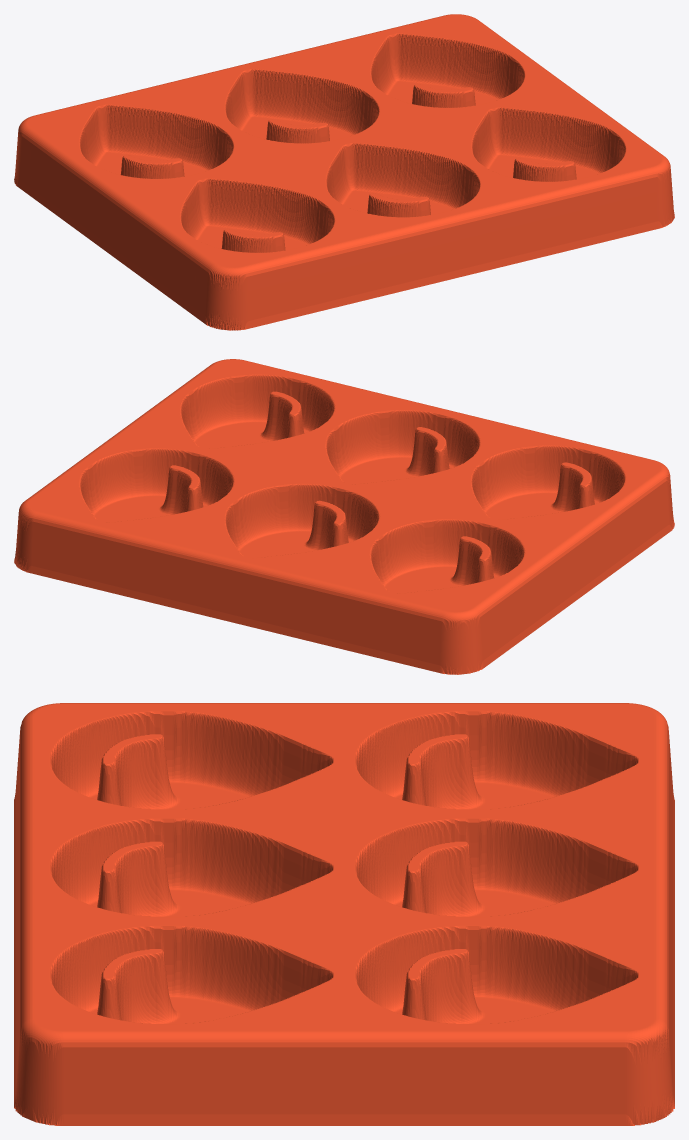
File: mold.glb
The picture shows the model from 3 angles, top to bottom: view 1: azimuth 30°, elevation 25°; view 2: azimuth 150°, elevation 25°; view 3: azimuth 270°, elevation 25°; orthographic projection. The views are drawn at different scales.
Parts seen in each view (by area): view 1: geometry_0; view 2: geometry_0; view 3: geometry_0.
Boxes of the visible parts, bbox=[...] form: geometry_0: bbox=[14, 14, 674, 330]; geometry_0: bbox=[14, 359, 674, 674]; geometry_0: bbox=[14, 703, 674, 1125].
Bounding box in the file's own units: 0.1489 × 0.0175 × 0.1211.
